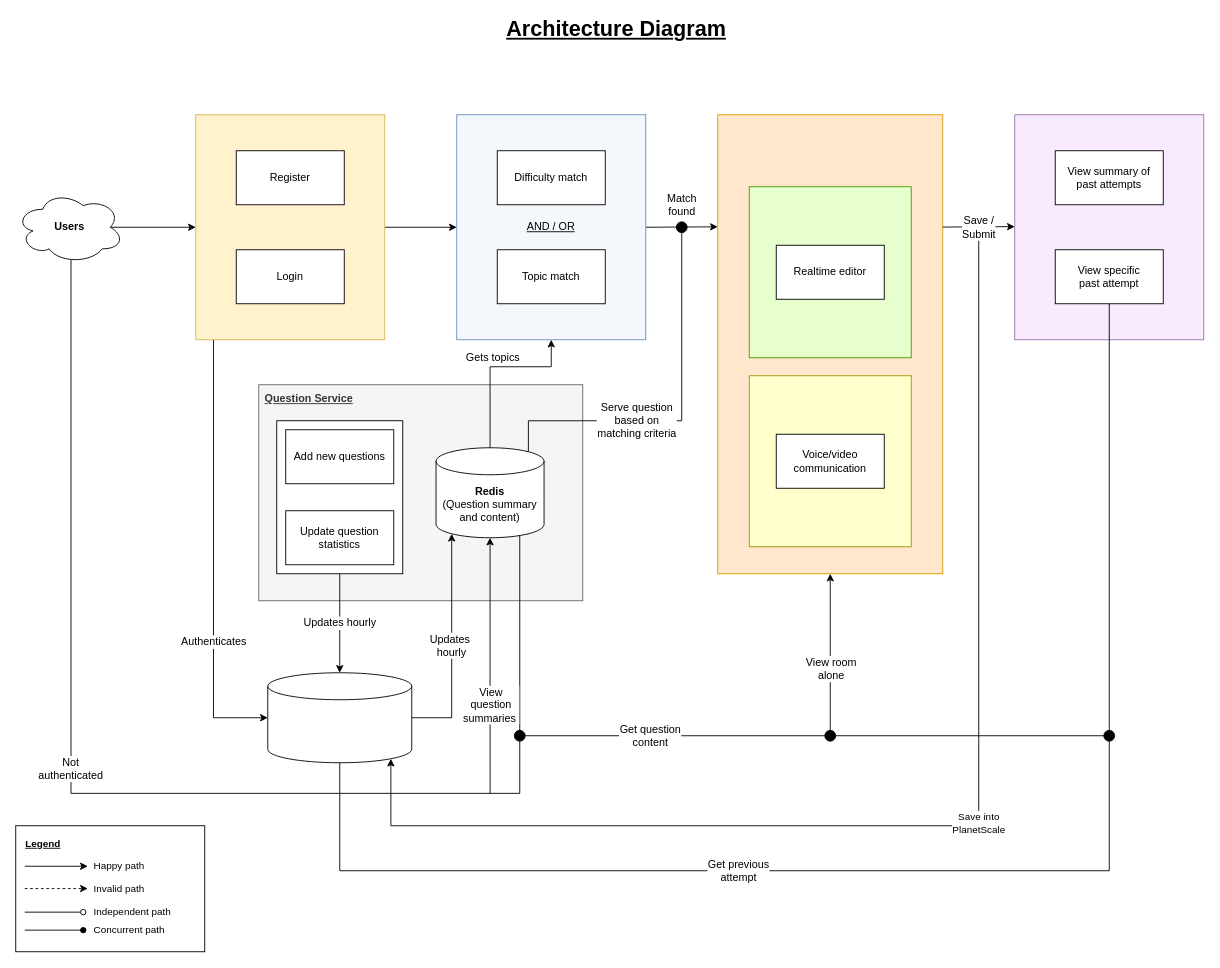
Some shapes in this 1220 by 968 pixel diagram are drawn without their labels. Each missing label, with the box of its shape:
Collaboration Service: (748, 186, 911, 358)
Communication Service: (748, 375, 911, 547)
History Service: (1014, 114, 1204, 340)
Matching Service: (456, 114, 646, 340)
PlanetScale: (267, 672, 412, 763)
Room Service Display question content: (717, 114, 943, 574)
User Service: (195, 114, 385, 340)
